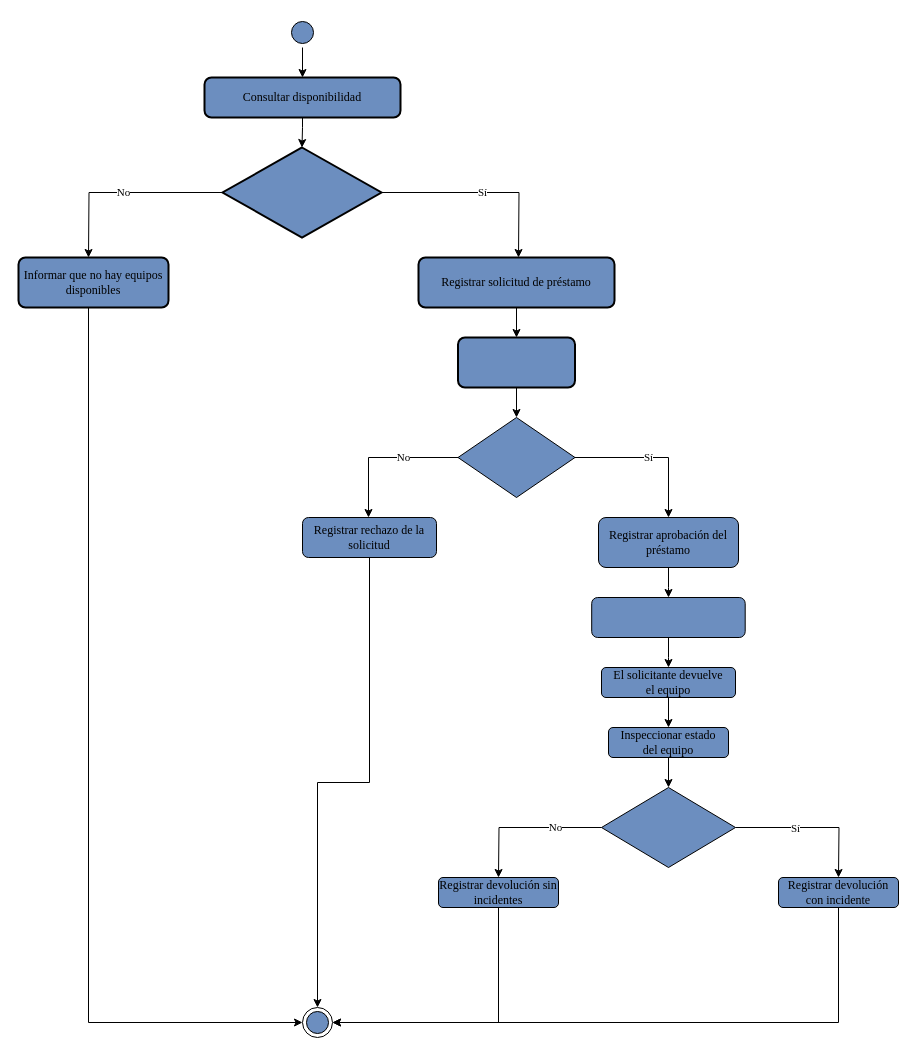
Image size: 916x1055. Some labels were removed from this diagram. The centre of each missing label's shape, as x and y in pixels:
Entregar equipo al solicitante: point 668,617
Revisar solicitud: point 516,362
¿Hay equipos disponibles?: point 301,192
¿Presenta algún incidente?: point 668,827
¿Se aprueba el préstamo?: point 516,457
